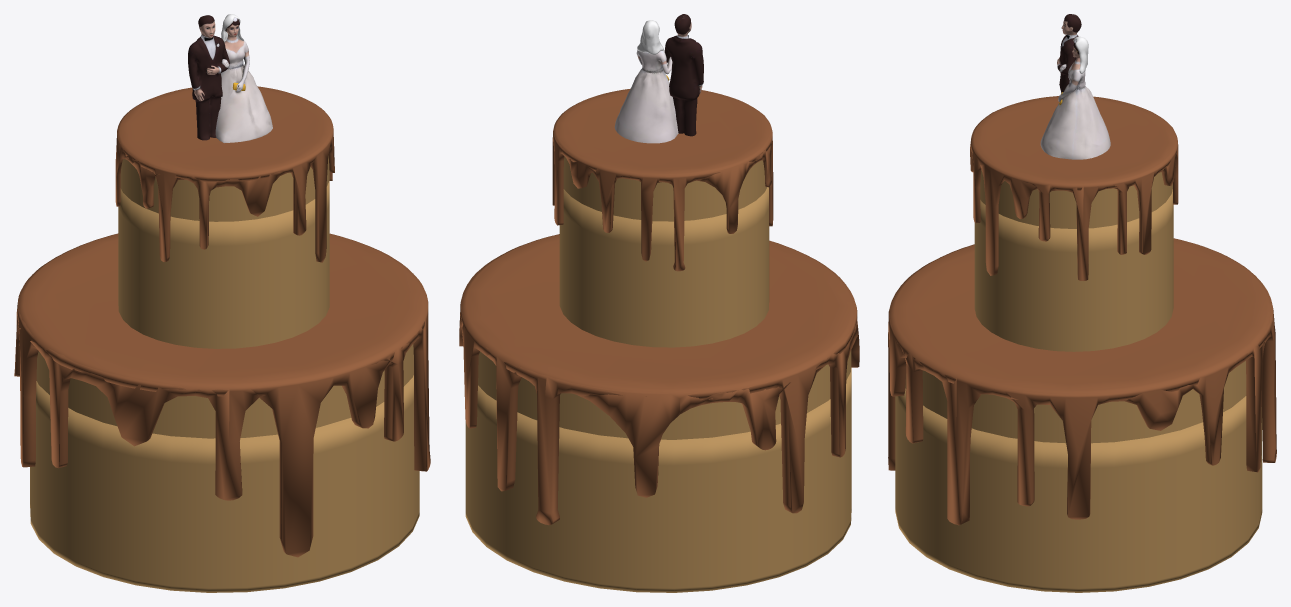
Rendered from 2-tier-caramel-ganache-bridegroom.glb.
3 views of the same model, side by side, from view 1: azimuth 30°, elevation 25°; view 2: azimuth 150°, elevation 25°; view 3: azimuth 270°, elevation 25° (orthographic). The views are drawn at different scales.
Visible parts, largest first — view 1: Cylinder.023, tHE ICING.004, Cylinder.013, tHE ICING.003, 13501_Cake_Topper_Bride_Groom_v1_L1.003; view 2: Cylinder.023, tHE ICING.004, Cylinder.013, tHE ICING.003, 13501_Cake_Topper_Bride_Groom_v1_L1.003; view 3: Cylinder.023, tHE ICING.004, Cylinder.013, tHE ICING.003, 13501_Cake_Topper_Bride_Groom_v1_L1.003.
Part boxes in pixels (bbox=[...]): Cylinder.023: bbox=[30, 344, 419, 592]; tHE ICING.004: bbox=[14, 233, 430, 557]; Cylinder.013: bbox=[118, 156, 329, 348]; tHE ICING.003: bbox=[115, 86, 334, 262]; 13501_Cake_Topper_Bride_Groom_v1_L1.003: bbox=[188, 14, 272, 142]; Cylinder.023: bbox=[465, 350, 851, 592]; tHE ICING.004: bbox=[459, 234, 859, 525]; Cylinder.013: bbox=[559, 156, 769, 347]; tHE ICING.003: bbox=[552, 88, 773, 271]; 13501_Cake_Topper_Bride_Groom_v1_L1.003: bbox=[614, 14, 703, 143]; Cylinder.023: bbox=[895, 361, 1262, 592]; tHE ICING.004: bbox=[888, 238, 1276, 525]; Cylinder.013: bbox=[974, 169, 1173, 351]; tHE ICING.003: bbox=[970, 96, 1178, 280]; 13501_Cake_Topper_Bride_Groom_v1_L1.003: bbox=[1040, 14, 1110, 159].
Bounding box in the file's own units: 3.53 × 4.79 × 3.46.
3 materials, 1 textured.
